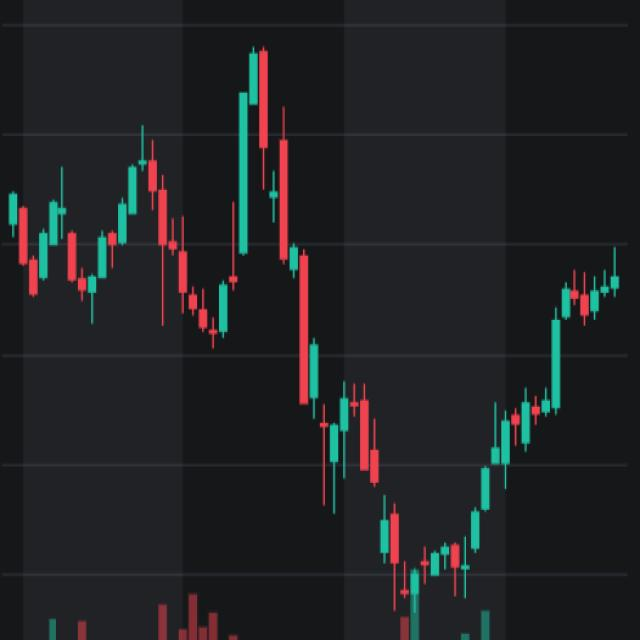Inverse-Head-Shoulders: (306, 318, 566, 592)
